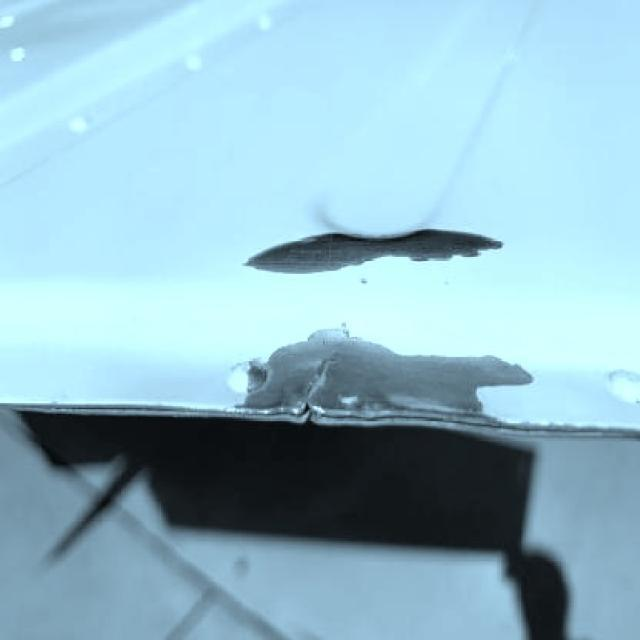crack: (285, 351, 353, 408)
